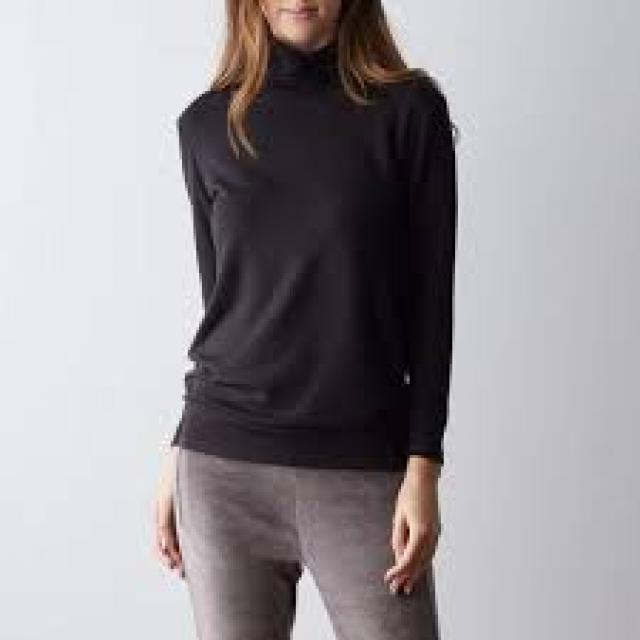plain: (95, 70, 526, 493)
